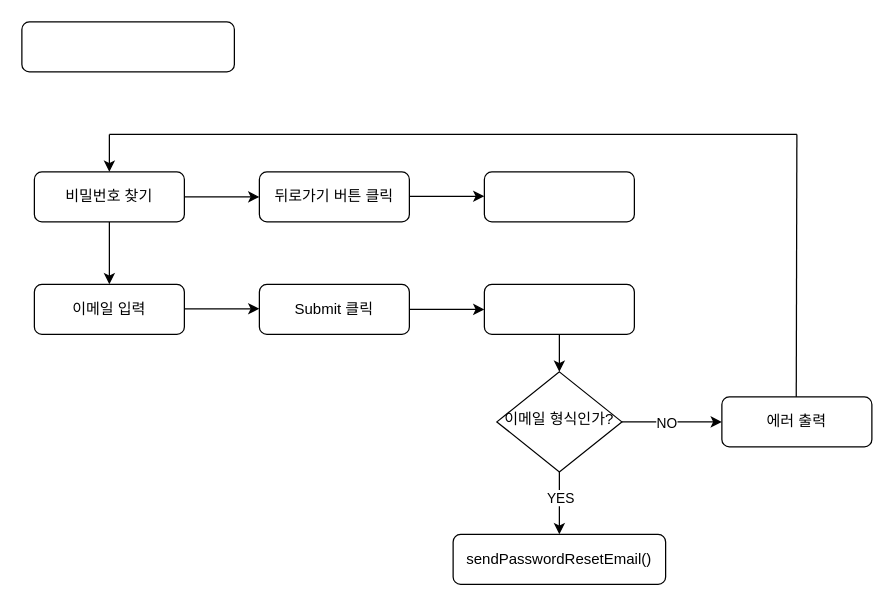
This 894x606 diagram has some shape labels left out. The shapes that lost their labels are listed below. From the top down, each one's centre as x and y in pixels, then its label:
At point (127, 46): "Route : /password 비밀번호 찾기 페이지".
At point (558, 196): "goBack()".
At point (558, 308): "sendEmail()".
